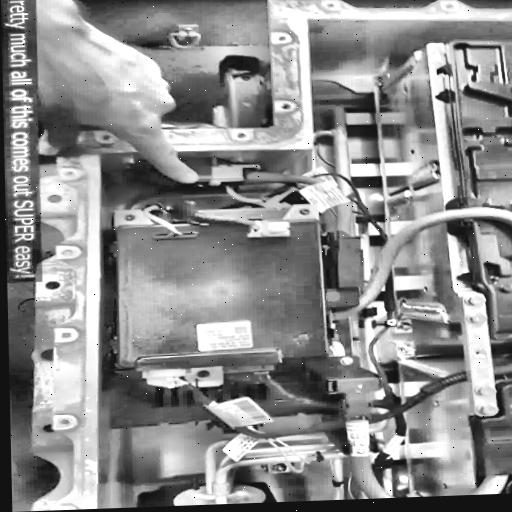bms_unit: (107, 203, 327, 371)
high_volt_cable: (329, 200, 512, 326), (315, 364, 449, 499), (455, 470, 512, 496)
low_volt_cable: (137, 370, 358, 479)
nut: (475, 402, 499, 418), (467, 312, 487, 326), (477, 385, 497, 398), (465, 295, 486, 306), (337, 358, 355, 366)
